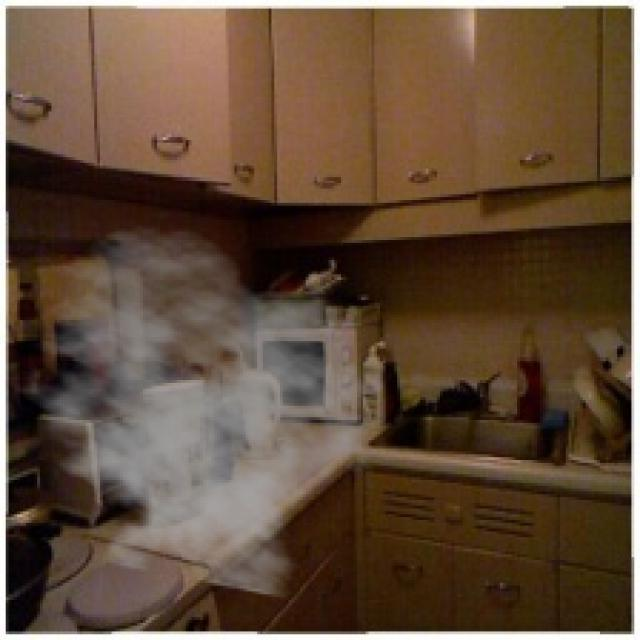Smoke: (0, 223, 392, 601)
